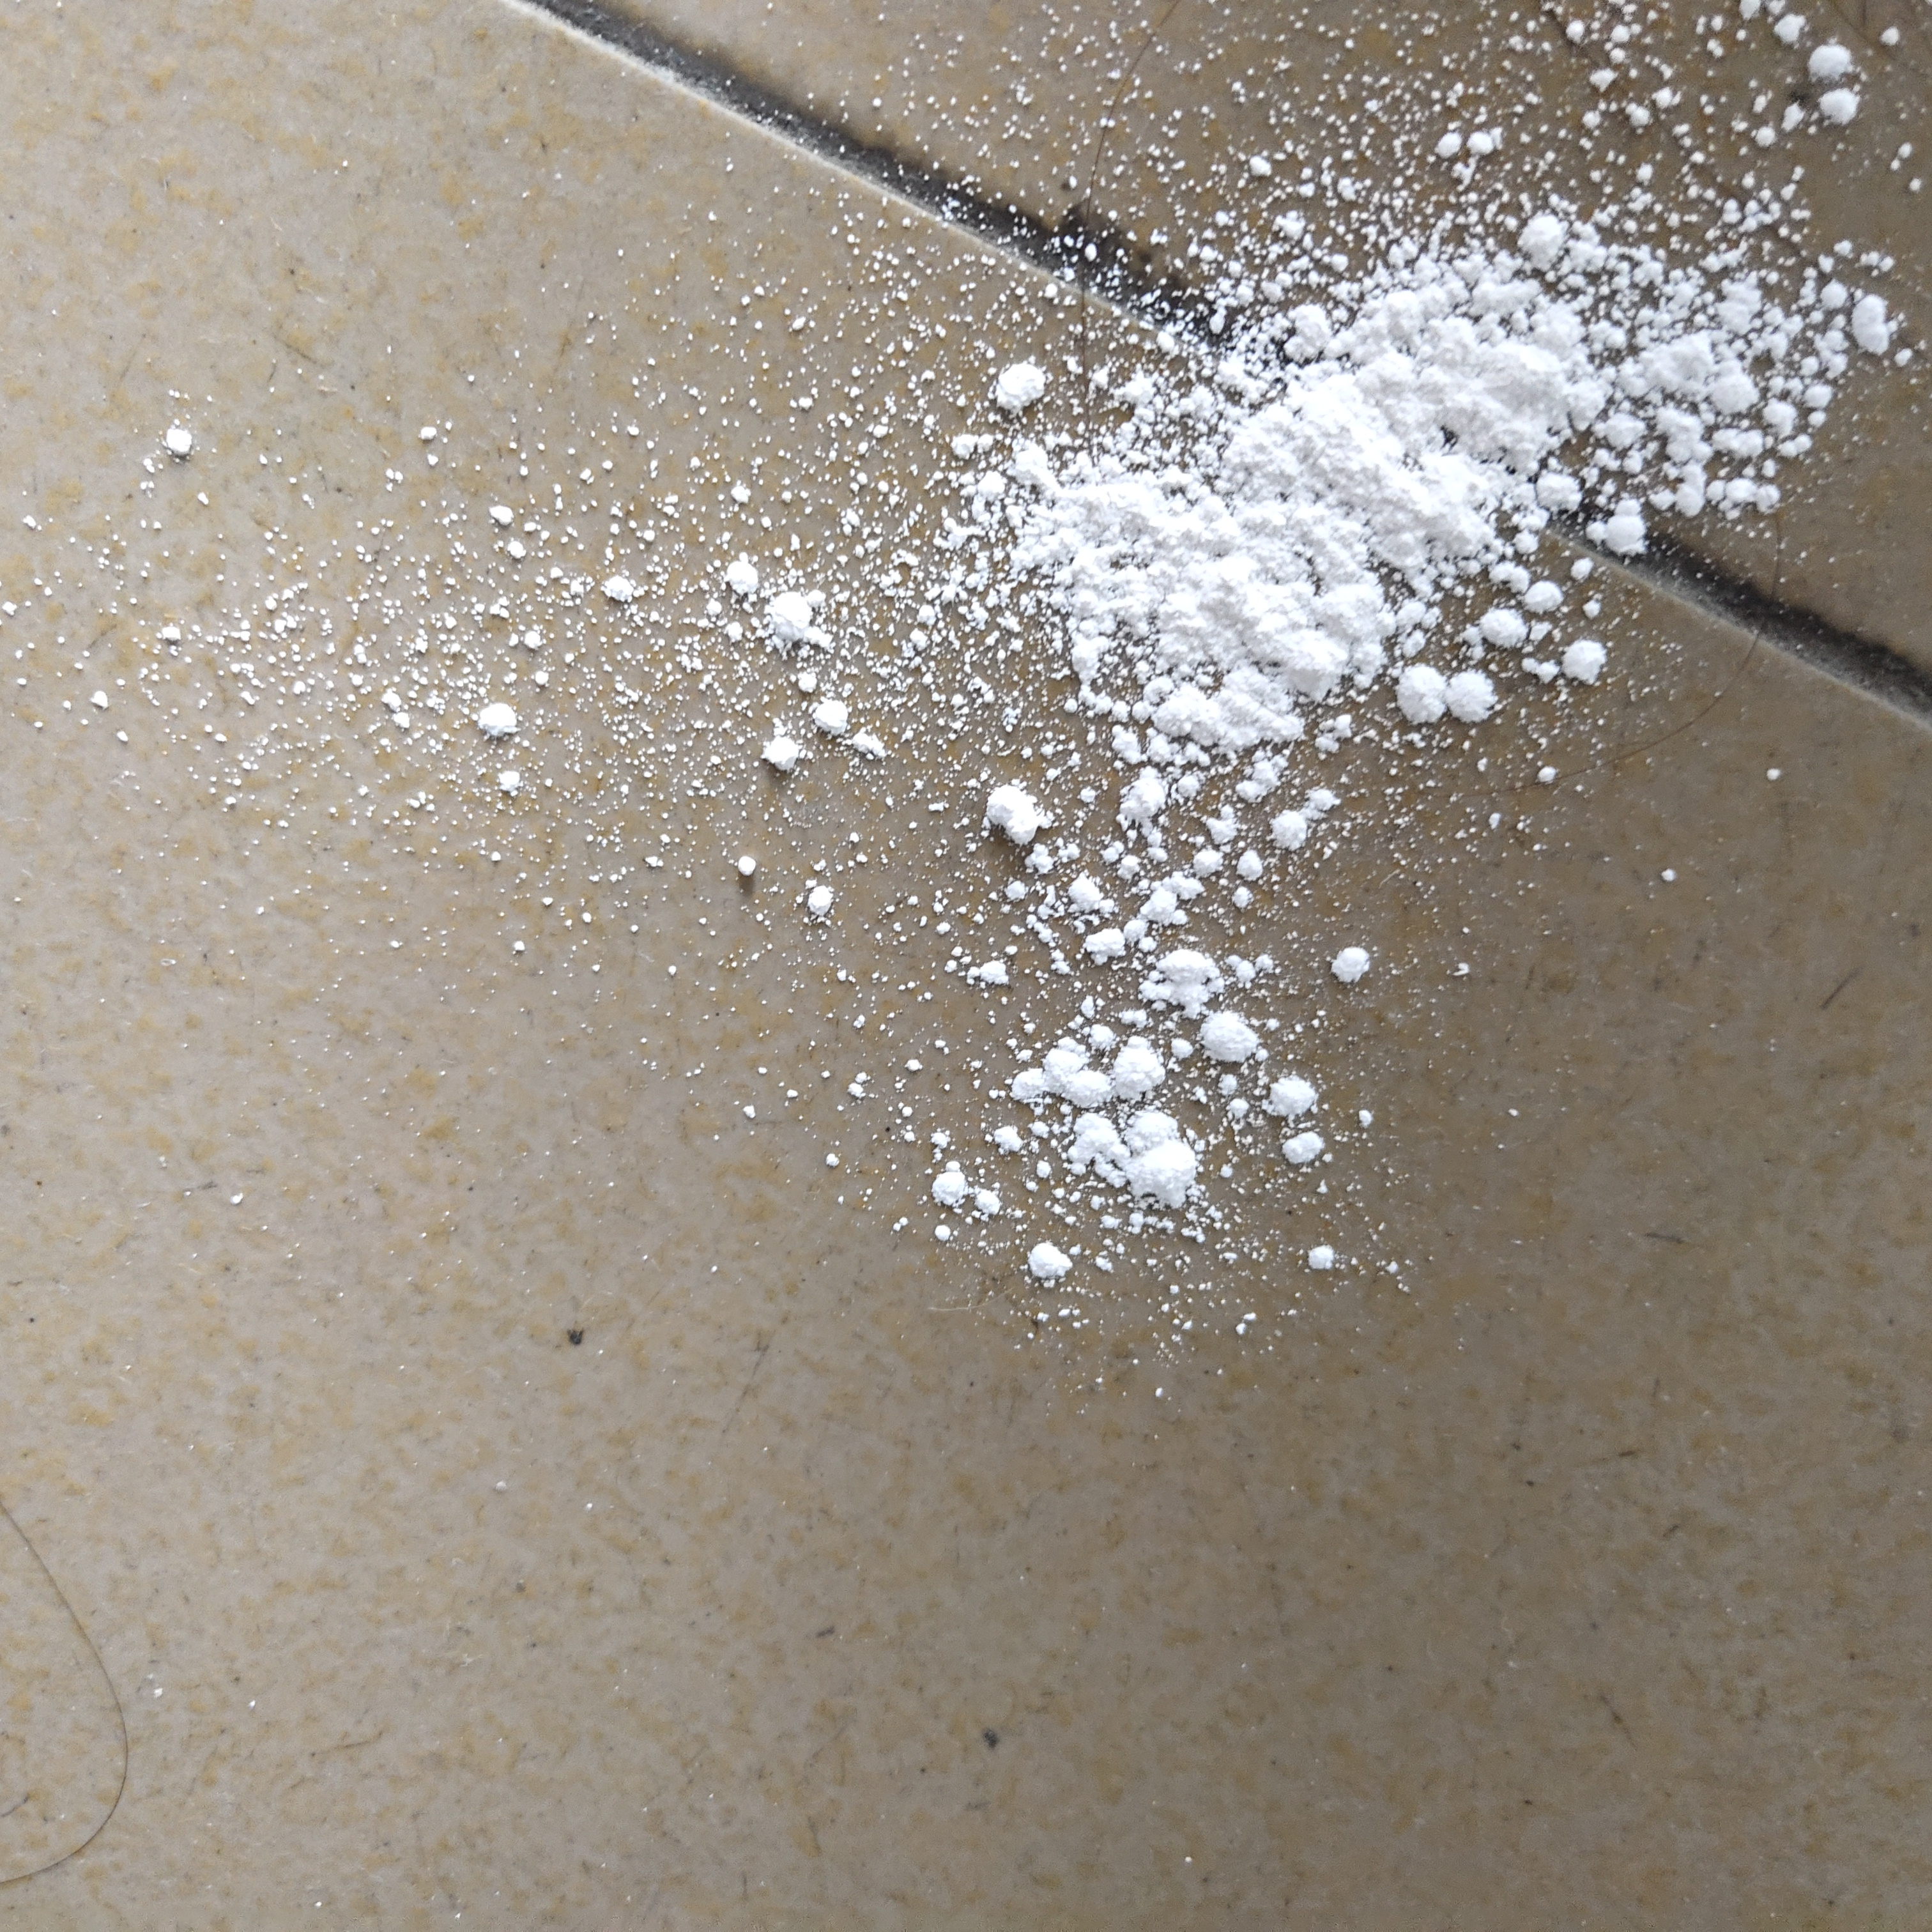ash pile: (0, 2, 1932, 1398)
